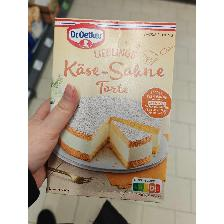Kuchen: (43, 17, 179, 206)
